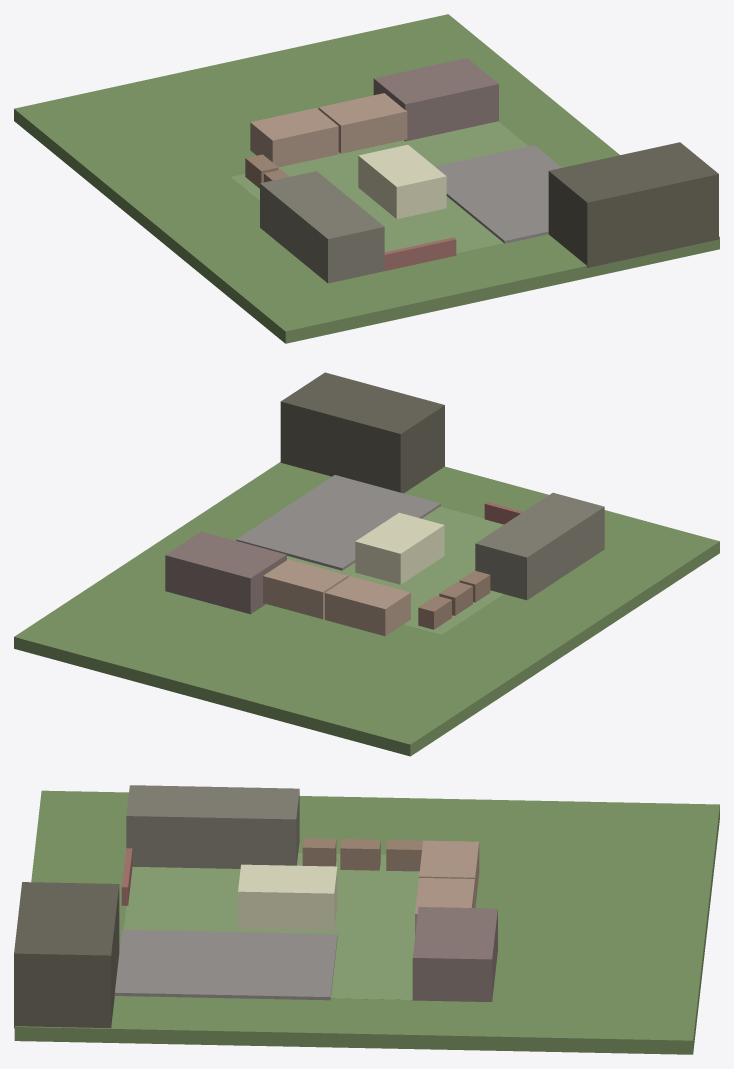
Rendered from zone1_block.fbx.
3 renders of one model, top to bottom at view 1: azimuth 30°, elevation 25°; view 2: azimuth 150°, elevation 25°; view 3: azimuth 270°, elevation 25°, orthographic. The views are drawn at different scales.
Parts seen in each view (by area): view 1: pCube10, pCube11, pCube6, pCube1, pCube3, pCube16, pCube2, pCube18, pCube17, pCube12, pCube9; view 2: pCube10, pCube11, pCube3, pCube6, pCube16, pCube1, pCube2, pCube18, pCube17, pCube9, pCube8; view 3: pCube10, pCube1, pCube11, pCube3, pCube6, pCube16, pCube2, pCube18, pCube17, pCube8, pCube9, pCube7 (+1 smaller).
Part boxes in pixels (x1,y1,x2,y2): pCube10: (14, 14, 719, 343); pCube11: (548, 142, 718, 267); pCube6: (260, 171, 384, 283); pCube1: (230, 121, 528, 253); pCube3: (435, 145, 561, 243); pCube16: (373, 58, 498, 141); pCube2: (358, 144, 446, 218); pCube18: (250, 108, 338, 167); pCube17: (318, 93, 407, 153); pCube12: (384, 237, 456, 270); pCube9: (245, 154, 278, 188); pCube10: (14, 462, 719, 756); pCube11: (280, 372, 444, 493); pCube3: (236, 475, 440, 570); pCube6: (475, 492, 604, 600); pCube16: (165, 531, 286, 614); pCube1: (287, 506, 503, 634); pCube2: (355, 512, 444, 584); pCube18: (325, 576, 410, 636); pCube17: (263, 559, 348, 619); pCube9: (418, 595, 451, 629); pCube8: (439, 582, 472, 615); pCube10: (14, 790, 719, 1054); pCube1: (124, 853, 419, 1000); pCube11: (14, 882, 119, 1028); pCube3: (114, 929, 337, 1000); pCube6: (126, 785, 299, 868); pCube16: (412, 907, 497, 1001); pCube2: (238, 864, 337, 930); pCube18: (419, 840, 479, 907); pCube17: (415, 878, 474, 936); pCube8: (340, 839, 380, 870); pCube9: (386, 840, 422, 871); pCube7: (302, 838, 336, 866).
Bounding box in the file's own units: 1628 × 263 × 1943.
